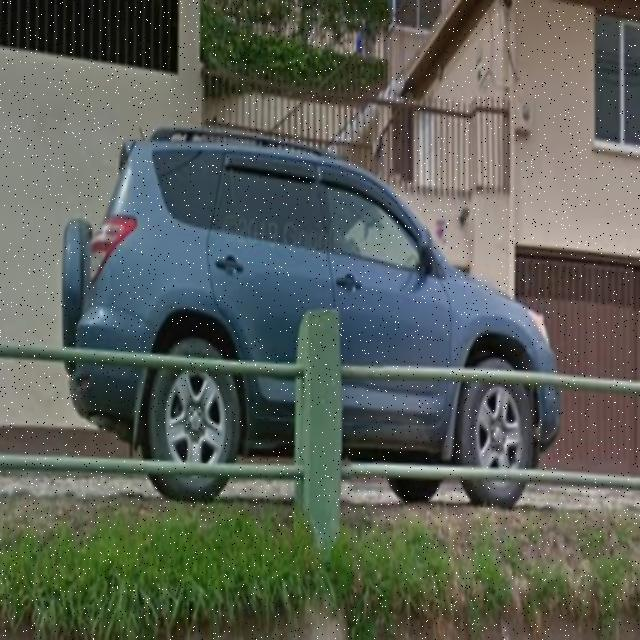cars: (56, 123, 560, 504)
